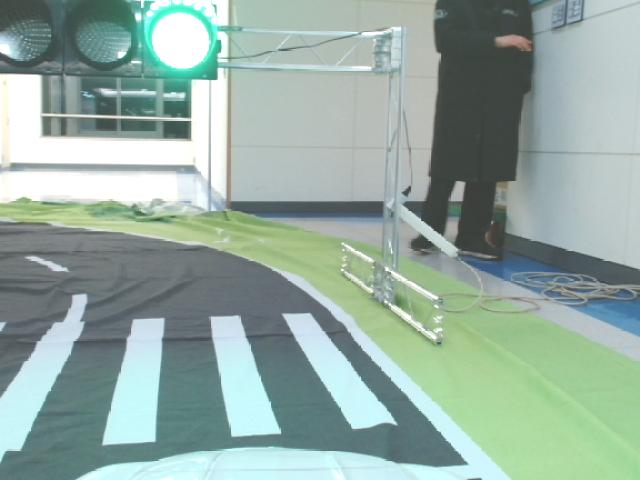crosswalk: (0, 313, 409, 448)
traffic light-green-: (0, 0, 220, 80)
